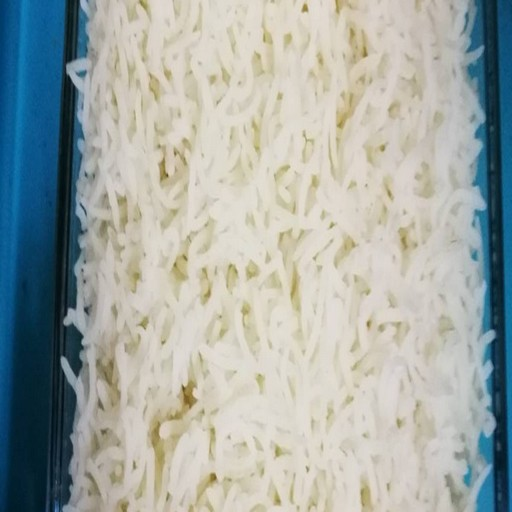rice: (169, 103, 387, 472)
